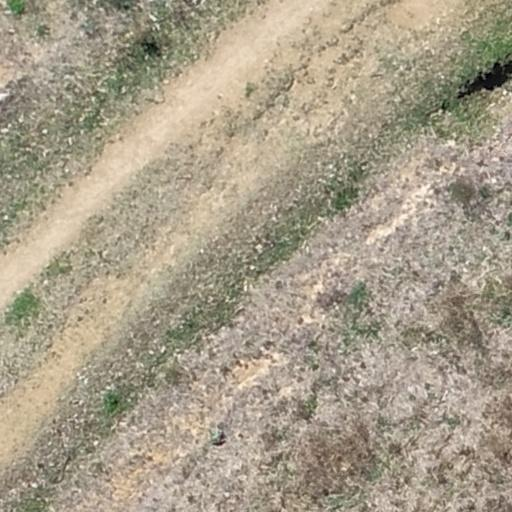stone: (407, 381, 432, 401), (208, 423, 225, 444), (0, 87, 11, 108)
